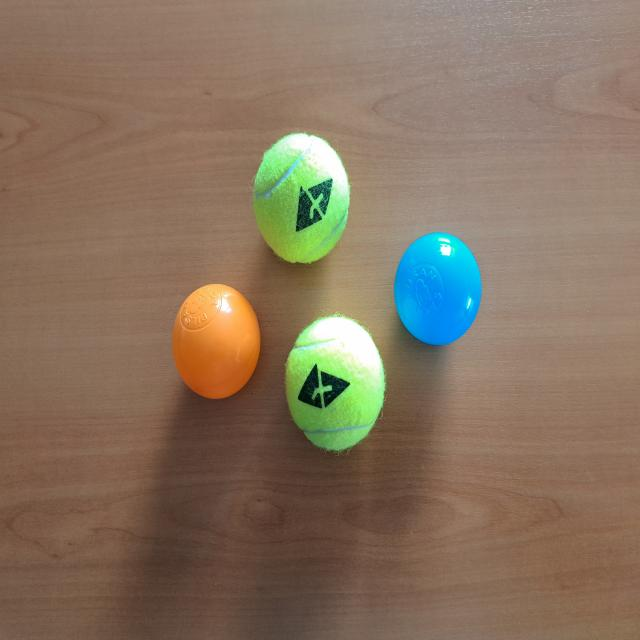blue: (396, 232, 482, 352)
orange: (171, 284, 262, 400)
tennis: (285, 314, 387, 456), (252, 133, 350, 267)
